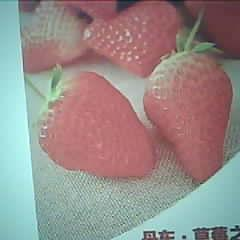straw-ripe: (36, 71, 153, 178), (144, 54, 234, 179), (87, 1, 183, 74)
